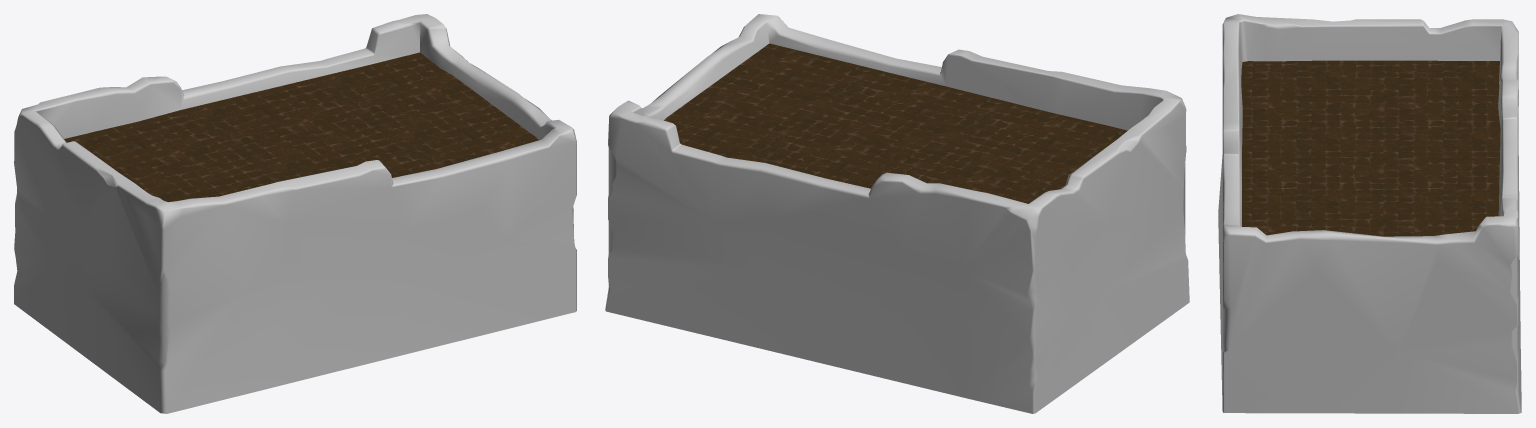
File: lower_city_house_08.fbx
The picture shows the model from 3 angles, left to right: view 1: azimuth 30°, elevation 25°; view 2: azimuth 150°, elevation 25°; view 3: azimuth 270°, elevation 25°; orthographic projection. The views are drawn at different scales.
Visible parts, largest first — view 1: lower_city_house_08; view 2: lower_city_house_08; view 3: lower_city_house_08.
Part boxes in pixels (x1=…): lower_city_house_08: x1=14, y1=14, x2=576, y2=413; lower_city_house_08: x1=605, y1=14, x2=1189, y2=413; lower_city_house_08: x1=1218, y1=14, x2=1521, y2=413.
Bounding box in the file's own units: 12.04 × 5.52 × 7.63.
